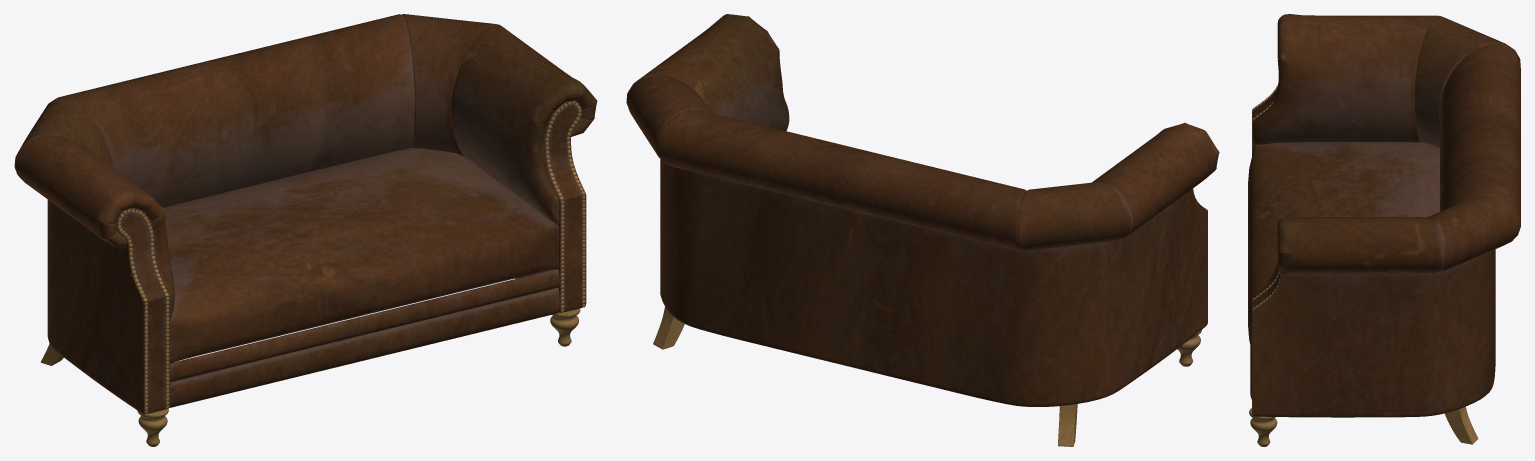
File: sofa2.fbx
3 views of the same model, side by side, from view 1: azimuth 30°, elevation 25°; view 2: azimuth 150°, elevation 25°; view 3: azimuth 270°, elevation 25° (orthographic). The views are drawn at different scales.
Visible parts, largest first — view 1: Sofa Marlou Dantone home; view 2: Sofa Marlou Dantone home; view 3: Sofa Marlou Dantone home.
Boxes of the visible parts, bbox=[...] form: Sofa Marlou Dantone home: bbox=[14, 14, 597, 446]; Sofa Marlou Dantone home: bbox=[626, 14, 1219, 446]; Sofa Marlou Dantone home: bbox=[1248, 14, 1520, 446].
Size of the model in its own units: 263 by 125 by 133.
1 material, 1 textured.
